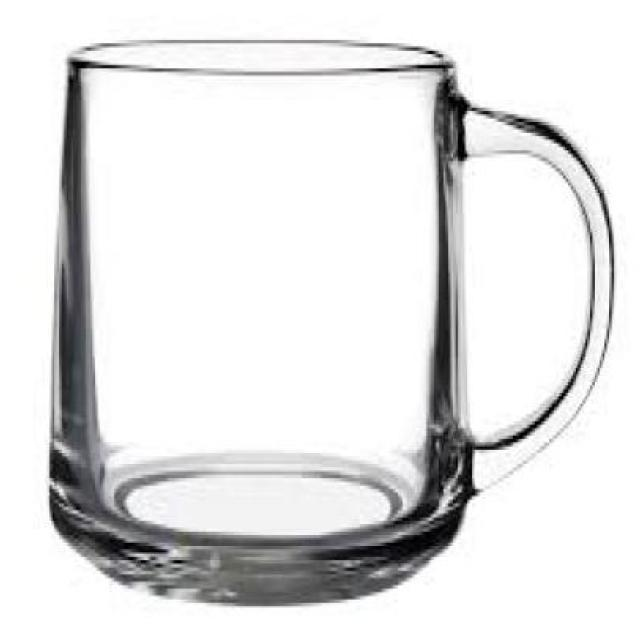cup: (41, 30, 622, 614)
